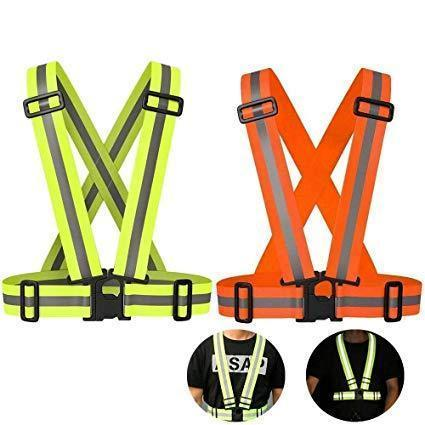Glass: (2, 53, 220, 321), (205, 64, 424, 325), (198, 329, 283, 424)
